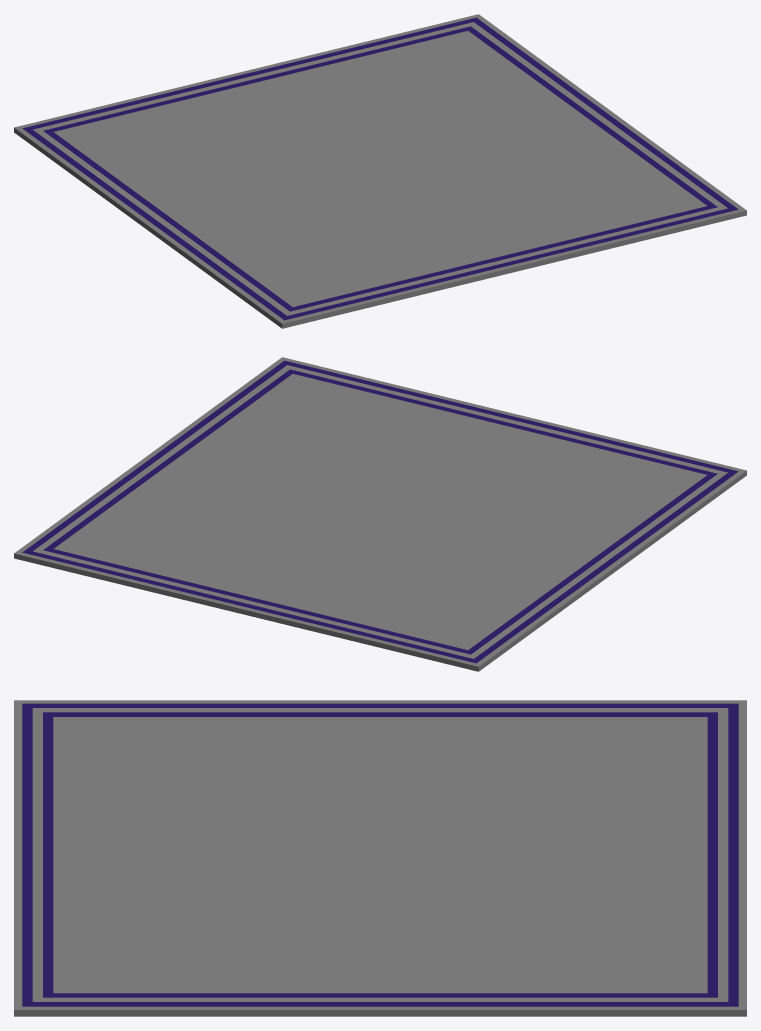
Rendered from Ground_29.fbx.
3 renders of one model, top to bottom at view 1: azimuth 30°, elevation 25°; view 2: azimuth 150°, elevation 25°; view 3: azimuth 270°, elevation 25°, orthographic. The views are drawn at different scales.
Parts seen in each view (by area): view 1: Ground_29; view 2: Ground_29; view 3: Ground_29.
Boxes of the visible parts, box(x1,y1,x2,y2) form: Ground_29: box(14, 14, 746, 328); Ground_29: box(14, 357, 746, 671); Ground_29: box(14, 700, 746, 1016).
Bounding box in the file's own units: 3.61 × 0.0368 × 3.61.
